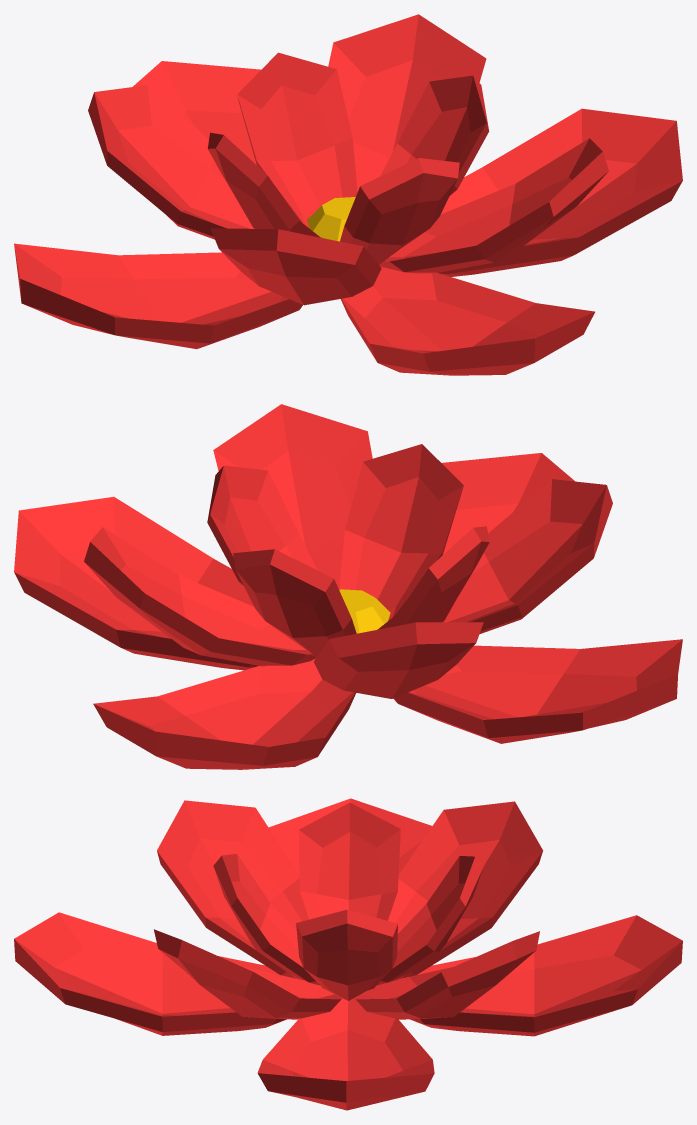
The model's file is Flower.glb.
3 renders of one model, top to bottom at view 1: azimuth 30°, elevation 25°; view 2: azimuth 150°, elevation 25°; view 3: azimuth 270°, elevation 25°, orthographic. The views are drawn at different scales.
Parts seen in each view (by area): view 1: petals, center; view 2: petals, center; view 3: petals.
Part boxes in pixels (left/top/right/bottom): petals: left=14, top=14, right=682, bottom=375; center: left=307, top=197, right=355, bottom=241; petals: left=14, top=404, right=682, bottom=769; center: left=339, top=589, right=390, bottom=633; petals: left=14, top=798, right=682, bottom=1110.
Bounding box in the file's own units: 41.24 × 11.69 × 41.24.
